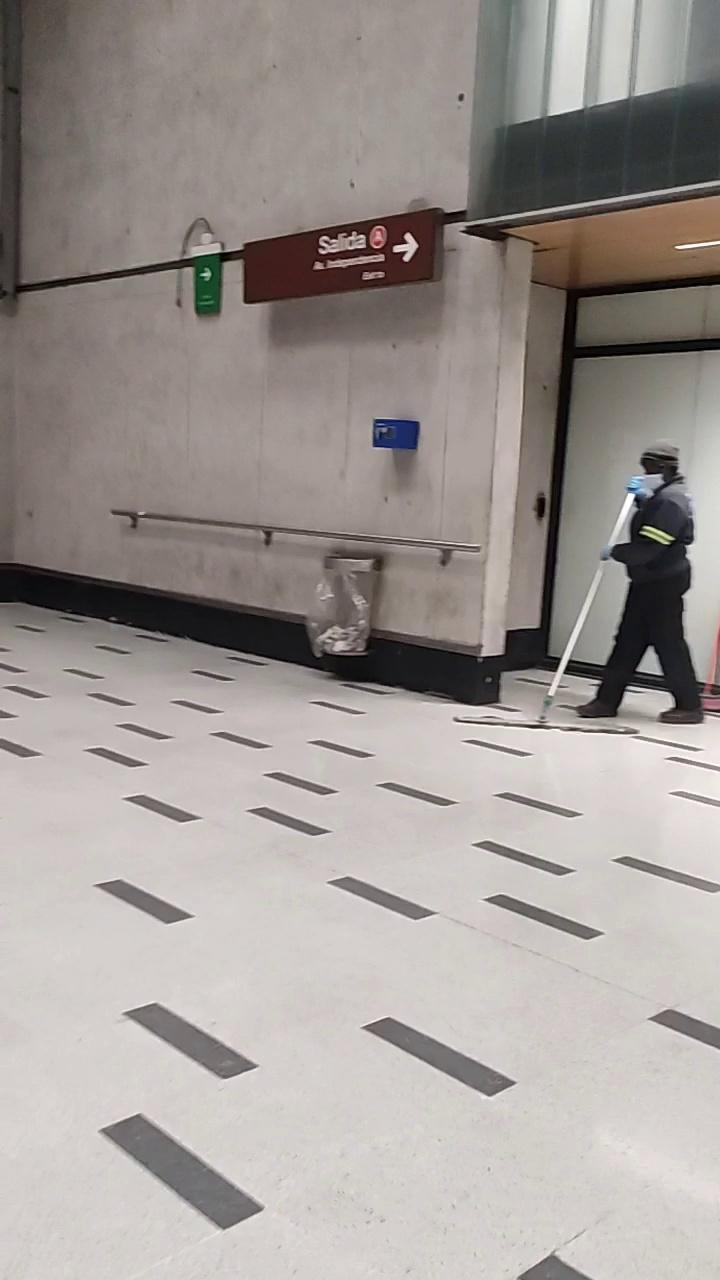right arrow: (393, 232, 420, 264)
